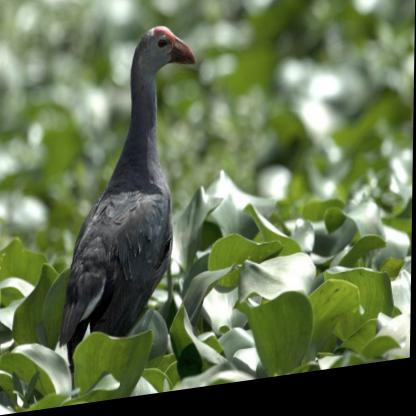Burung: (50, 25, 202, 356)
